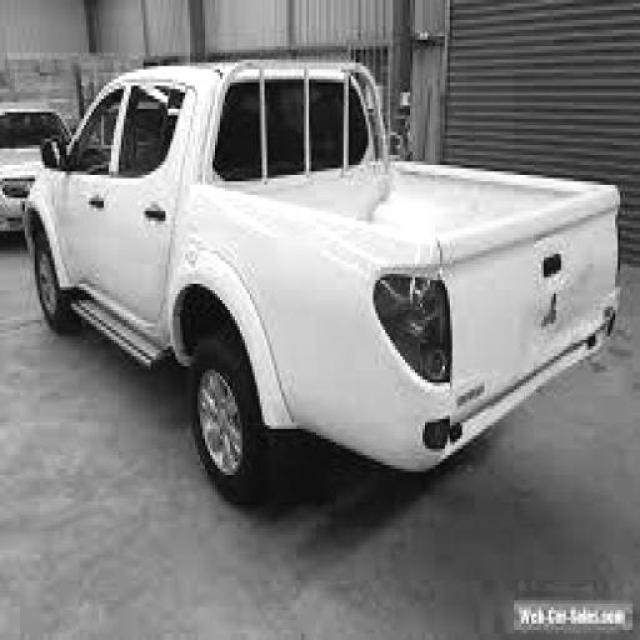car damage: (527, 267, 594, 375)
